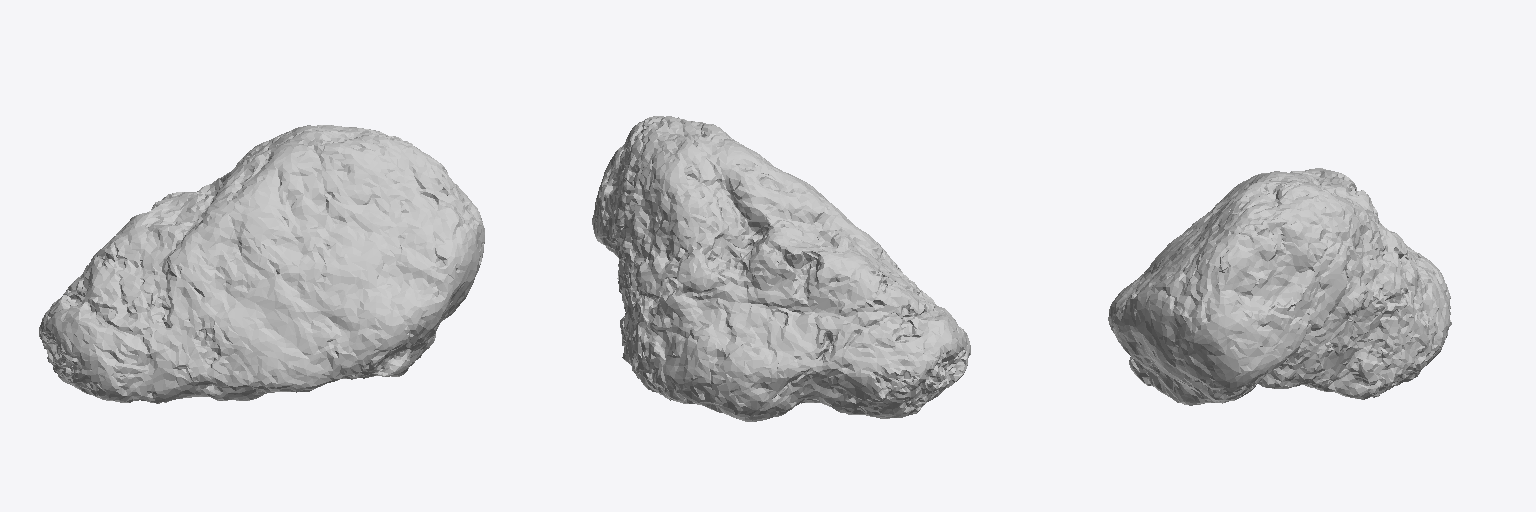
File: stone_22.obj
The picture shows the model from 3 angles: view 1: azimuth 30°, elevation 25°; view 2: azimuth 150°, elevation 25°; view 3: azimuth 270°, elevation 25°; orthographic projection.
Parts seen in each view (by area): view 1: Rock.003; view 2: Rock.003; view 3: Rock.003.
Boxes of the visible parts, x1,y1,x2,y2 form: Rock.003: [39, 125, 484, 403]; Rock.003: [592, 116, 970, 421]; Rock.003: [1108, 168, 1451, 405].
Bounding box in the file's own units: 0.681 × 0.3545 × 0.5246.